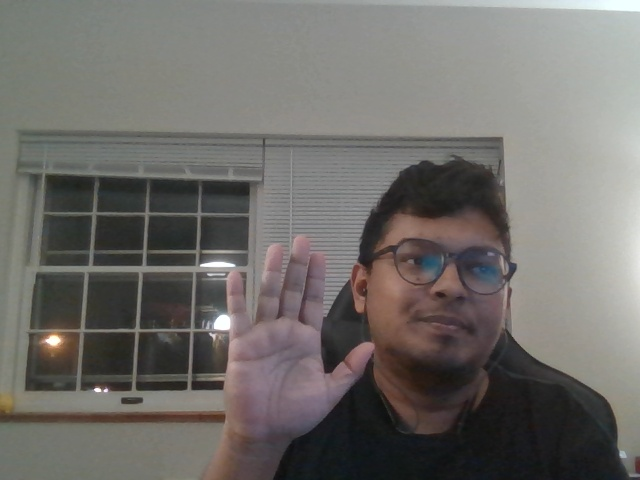hello: (214, 228, 387, 449)
